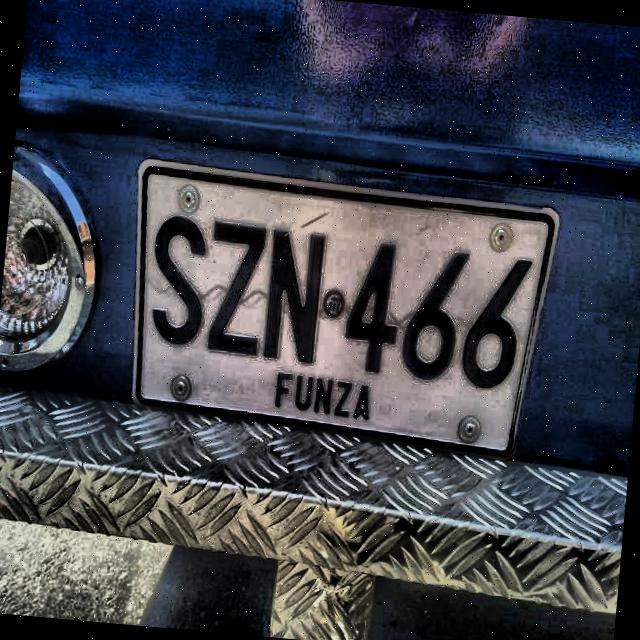plate: (139, 167, 553, 450)
